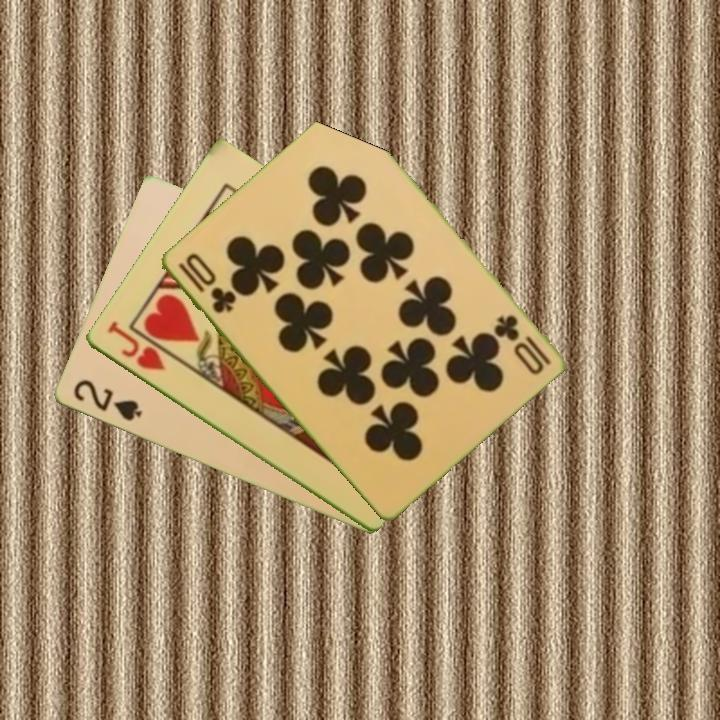10c: (174, 249, 239, 317), (491, 311, 553, 378)
2s: (69, 376, 145, 425)
Jh: (103, 317, 167, 374)
